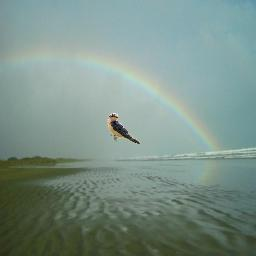Swallow: (107, 111, 143, 145)
